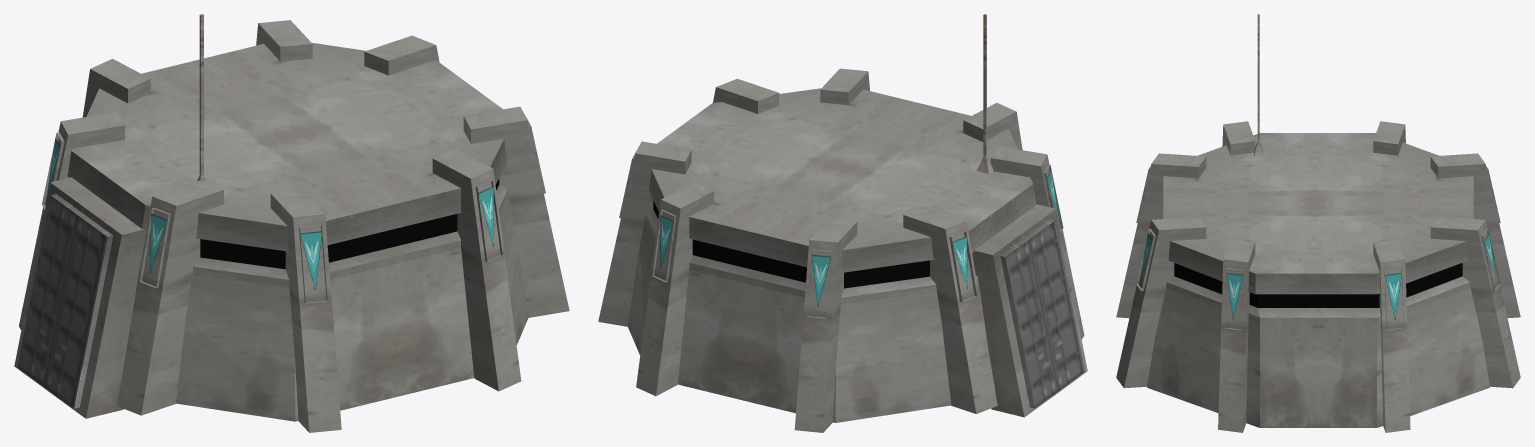
Rendered from house.dae.
3 renders of one model, left to right at view 1: azimuth 30°, elevation 25°; view 2: azimuth 150°, elevation 25°; view 3: azimuth 270°, elevation 25°, orthographic. The views are drawn at different scales.
Parts seen in each view (by area): view 1: bunker; view 2: bunker; view 3: bunker.
Boxes of the visible parts, x1=… form: bunker: x1=14, y1=14, x2=569, y2=432; bunker: x1=598, y1=14, x2=1087, y2=432; bunker: x1=1116, y1=14, x2=1520, y2=432.
Size of the model in its own units: 14.16 by 13.39 by 10.8.
